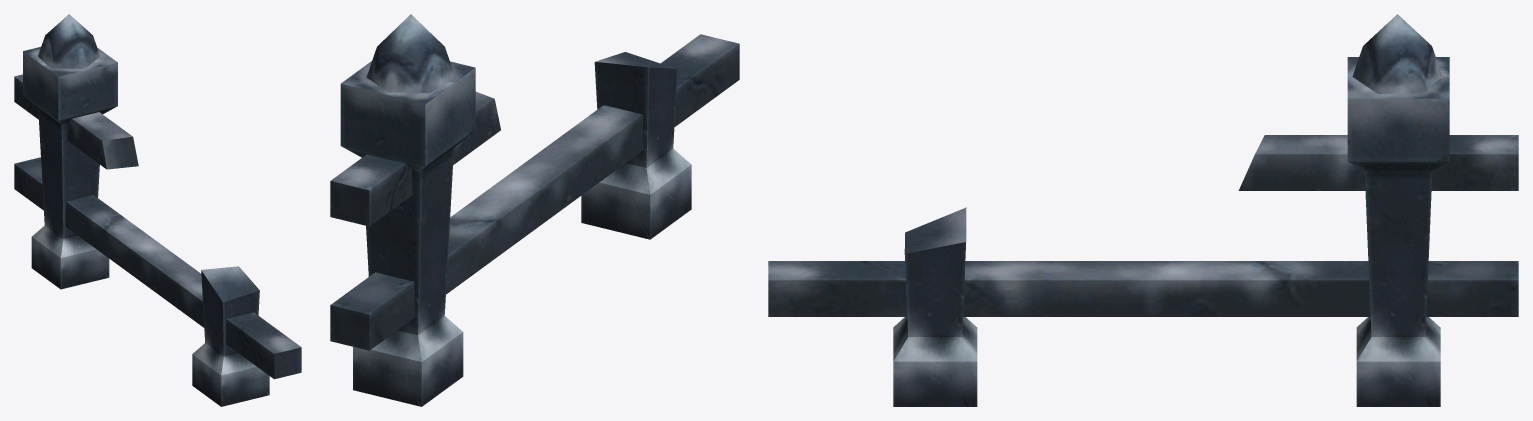
The model's file is Ice_fences03.FBX.
3 views of the same model, side by side, from view 1: azimuth 30°, elevation 25°; view 2: azimuth 150°, elevation 25°; view 3: azimuth 270°, elevation 25° (orthographic). The views are drawn at different scales.
Parts seen in each view (by area): view 1: Object15869; view 2: Object15869; view 3: Object15869.
Boxes of the visible parts, x1=… form: Object15869: x1=14, y1=14, x2=301, y2=406; Object15869: x1=330, y1=14, x2=739, y2=406; Object15869: x1=768, y1=14, x2=1518, y2=406.
Size of the model in its own units: 31.46 by 131 by 238.
